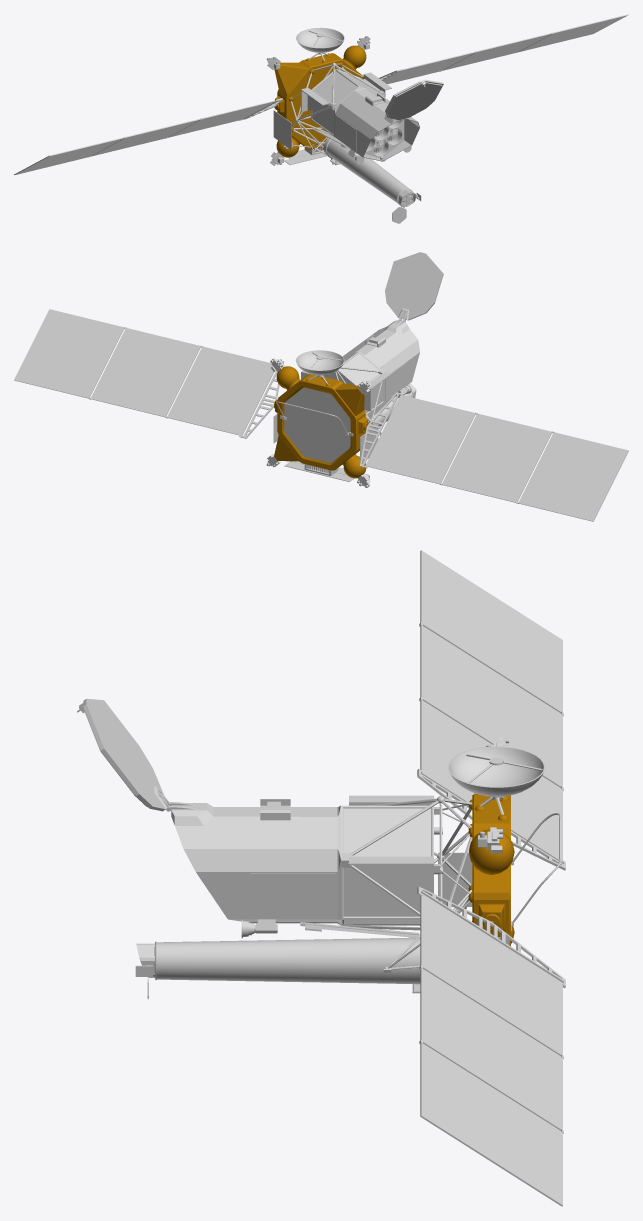
The model's file is Spectr_RG_02.fbx.
3 views of the same model, one above another, from view 1: azimuth 30°, elevation 25°; view 2: azimuth 150°, elevation 25°; view 3: azimuth 270°, elevation 25° (orthographic). The views are drawn at different scales.
Parts seen in each view (by area): view 1: SpectrRG; view 2: SpectrRG; view 3: SpectrRG.
Boxes of the visible parts, x1,y1,x2,y2 form: SpectrRG: (14,14,628,223); SpectrRG: (14,252,628,521); SpectrRG: (77,550,565,1206).
Bounding box in the file's own units: 7.59 × 1.91 × 2.78.
